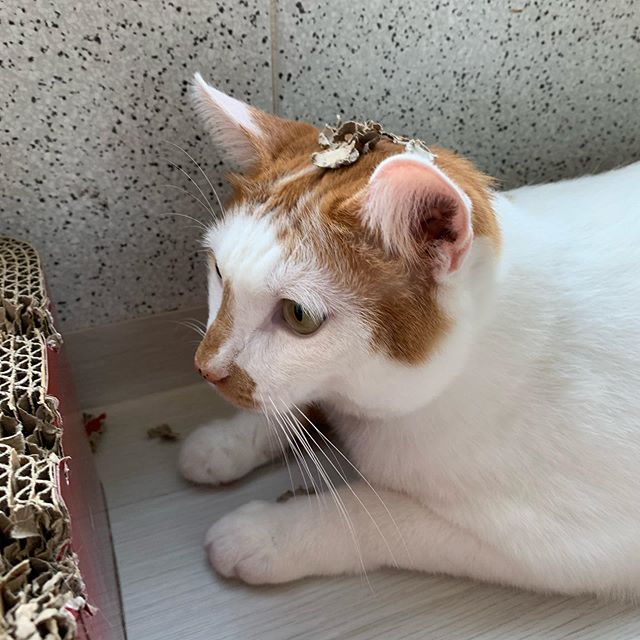cat: (179, 70, 531, 422)
